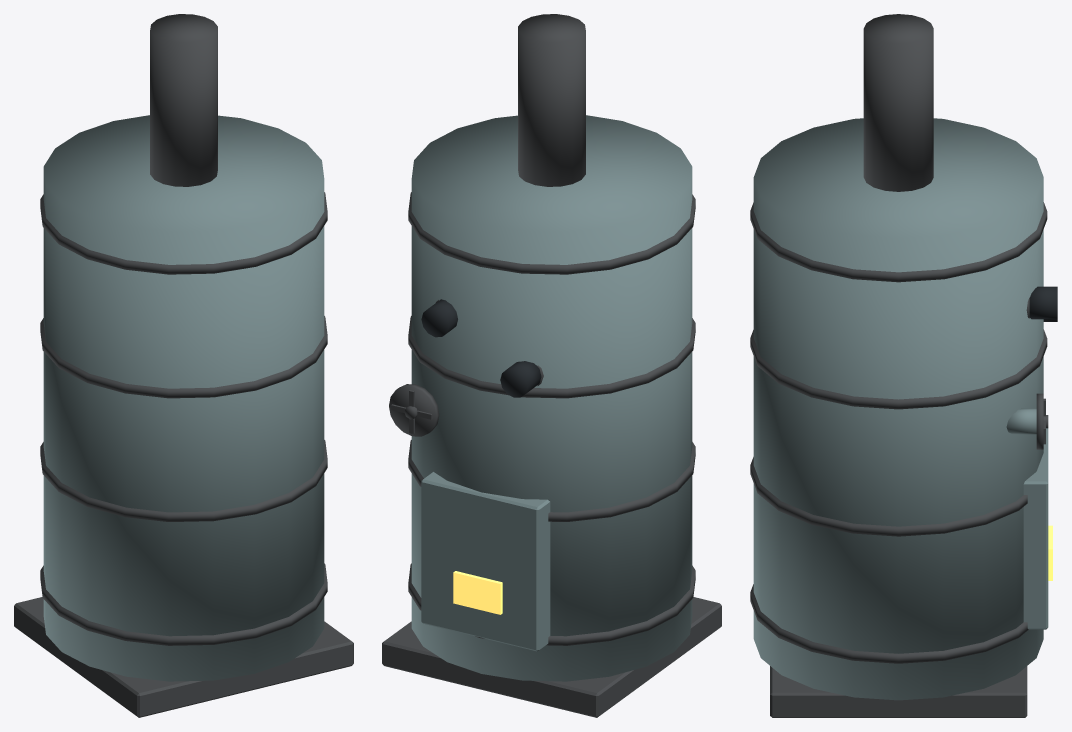
Rendered from boiler_unit.glb.
3 renders of one model, left to right at view 1: azimuth 30°, elevation 25°; view 2: azimuth 150°, elevation 25°; view 3: azimuth 270°, elevation 25°, orthographic. The views are drawn at different scales.
Parts seen in each view (by area): view 1: boiler_unit; view 2: boiler_unit; view 3: boiler_unit.
Part boxes in pixels (x1,y1,x2,y2): boiler_unit: [14, 14, 353, 717]; boiler_unit: [382, 14, 721, 717]; boiler_unit: [750, 14, 1057, 717].
Size of the model in its own units: 1.27 by 3 by 1.31.
